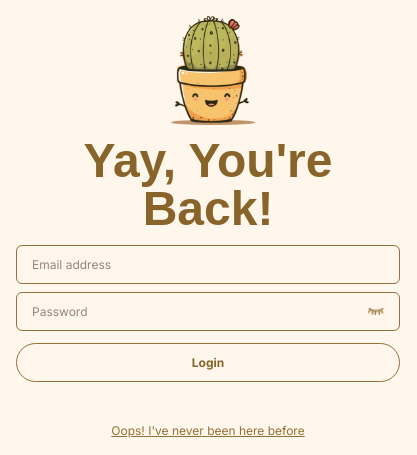
Test: Login page › shows error on failure
The image size is (417, 455).
In the field with placeholder "Email address": (208, 264) [32, 252, 384, 276], type "me@example.com"
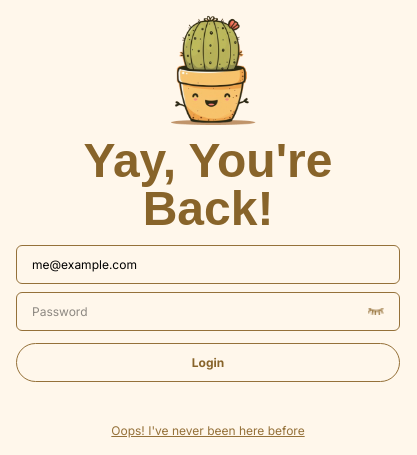
In the password field with placeholder "Password": (208, 311) [32, 300, 384, 322], type "secret"
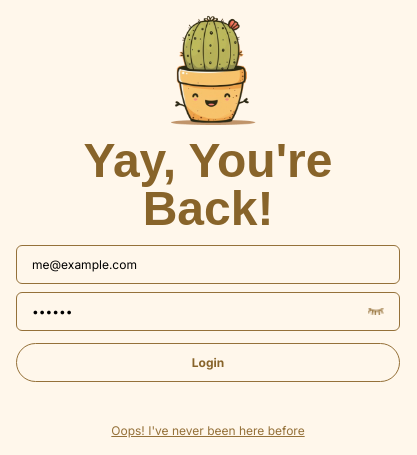
Click the button "Login": (208, 362) [16, 342, 400, 382]
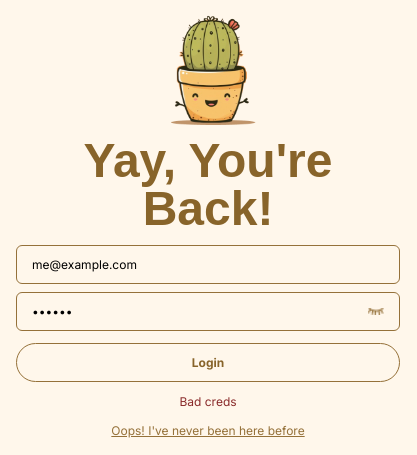
Expected: the text "Bad creds" is shown, [179, 394, 237, 410]
